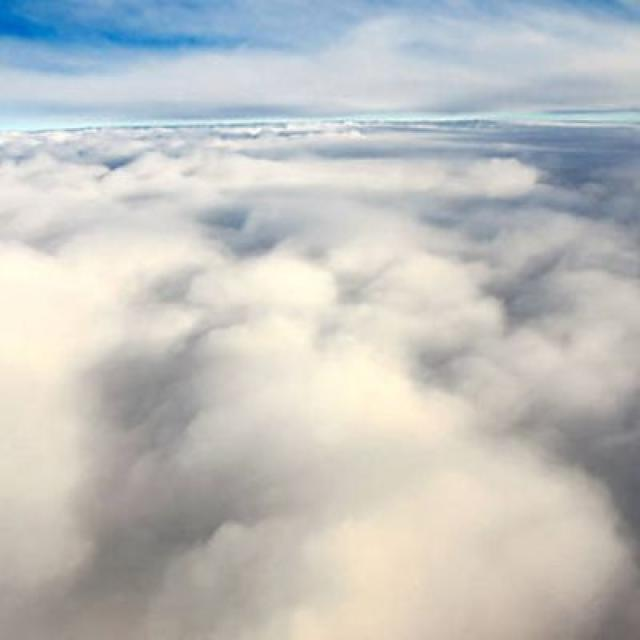As: (2, 124, 640, 640)
